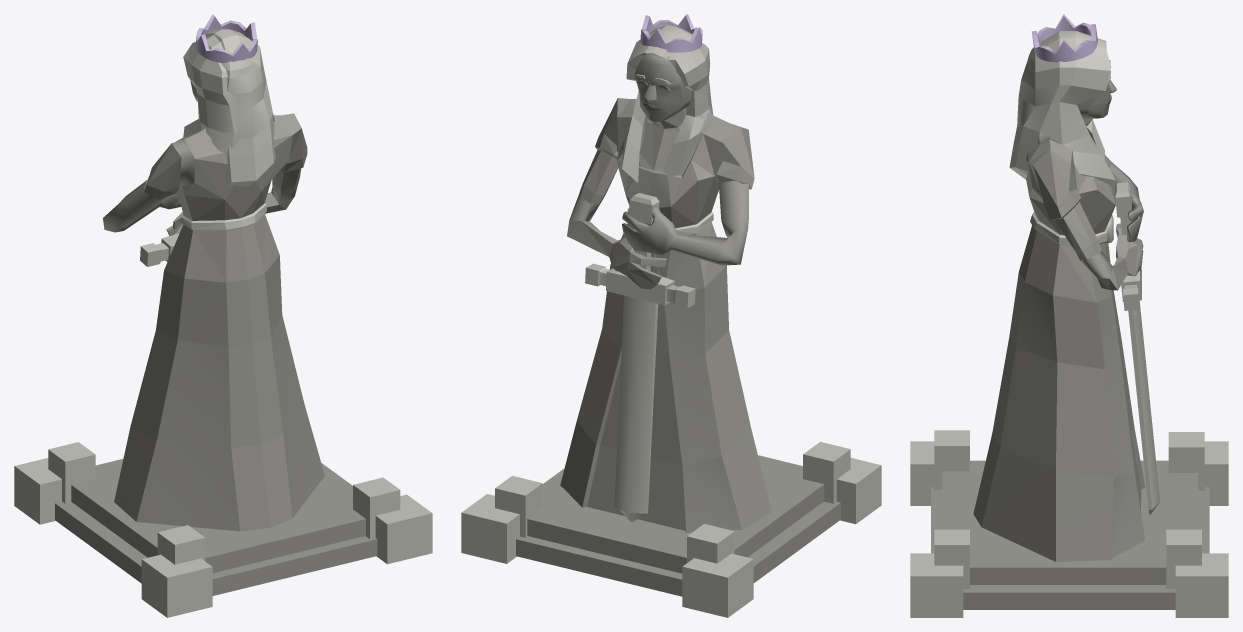
Rendered from statue_barbara.fbx.
3 renders of one model, left to right at view 1: azimuth 30°, elevation 25°; view 2: azimuth 150°, elevation 25°; view 3: azimuth 270°, elevation 25°, orthographic. The views are drawn at different scales.
Parts seen in each view (by area): view 1: polySurface7; view 2: polySurface7; view 3: polySurface7.
Part boxes in pixels (box(x1,y1,x2,y2)): polySurface7: box(14, 14, 432, 617); polySurface7: box(461, 14, 881, 617); polySurface7: box(910, 14, 1228, 617).
Bounding box in the file's own units: 19.65 × 35.83 × 19.62.
Materials: 1 (1 with a texture image).
